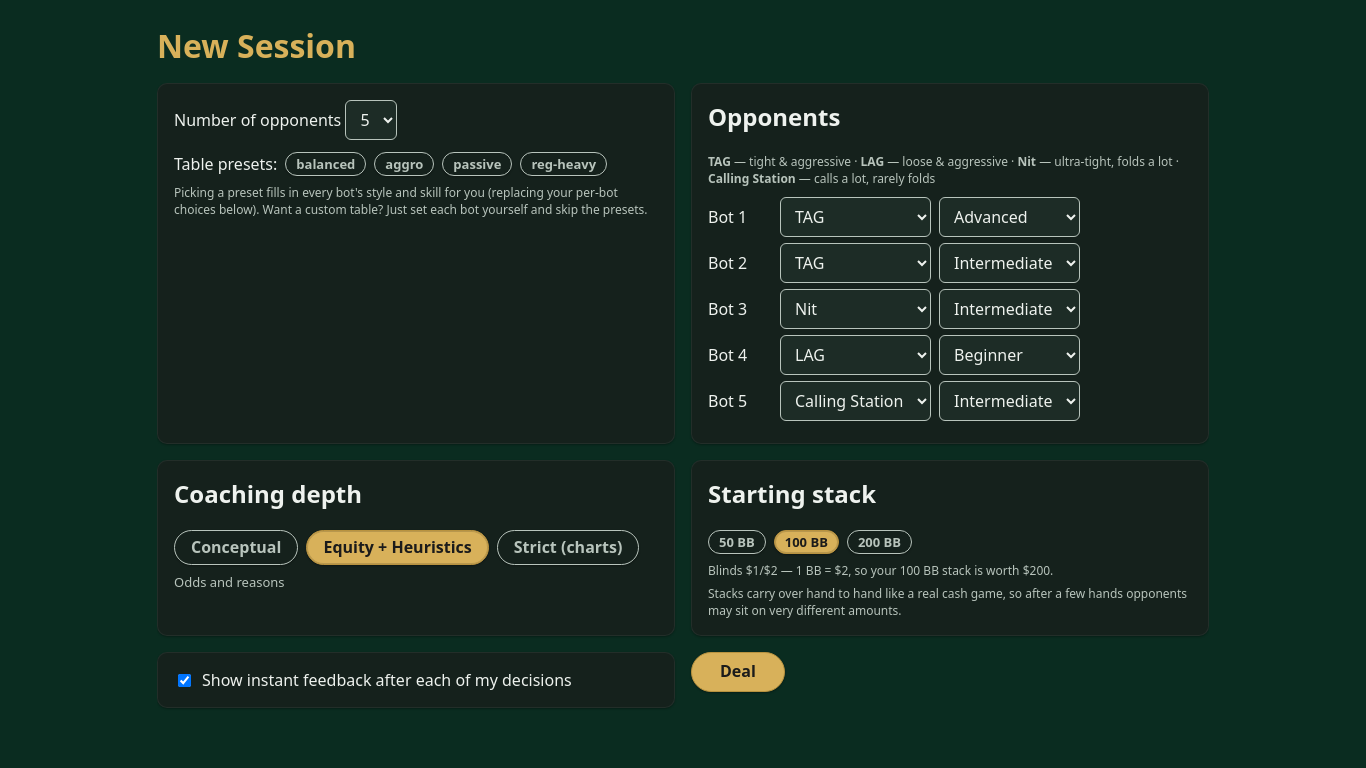
it: SetupScreen › states the blind size and what the chosen stack is worth (iter-03 #11)
Expected: the text with test id "blind-note" shows "Blinds $1/$2", [708,562,1053,579]
Expected: the text with test id "blind-note" shows "1 BB = $2", [708,562,1053,579]
Note: Updates with the chosen stack.
Click the button "200 BB" at (880, 542), box [847,530,912,554]
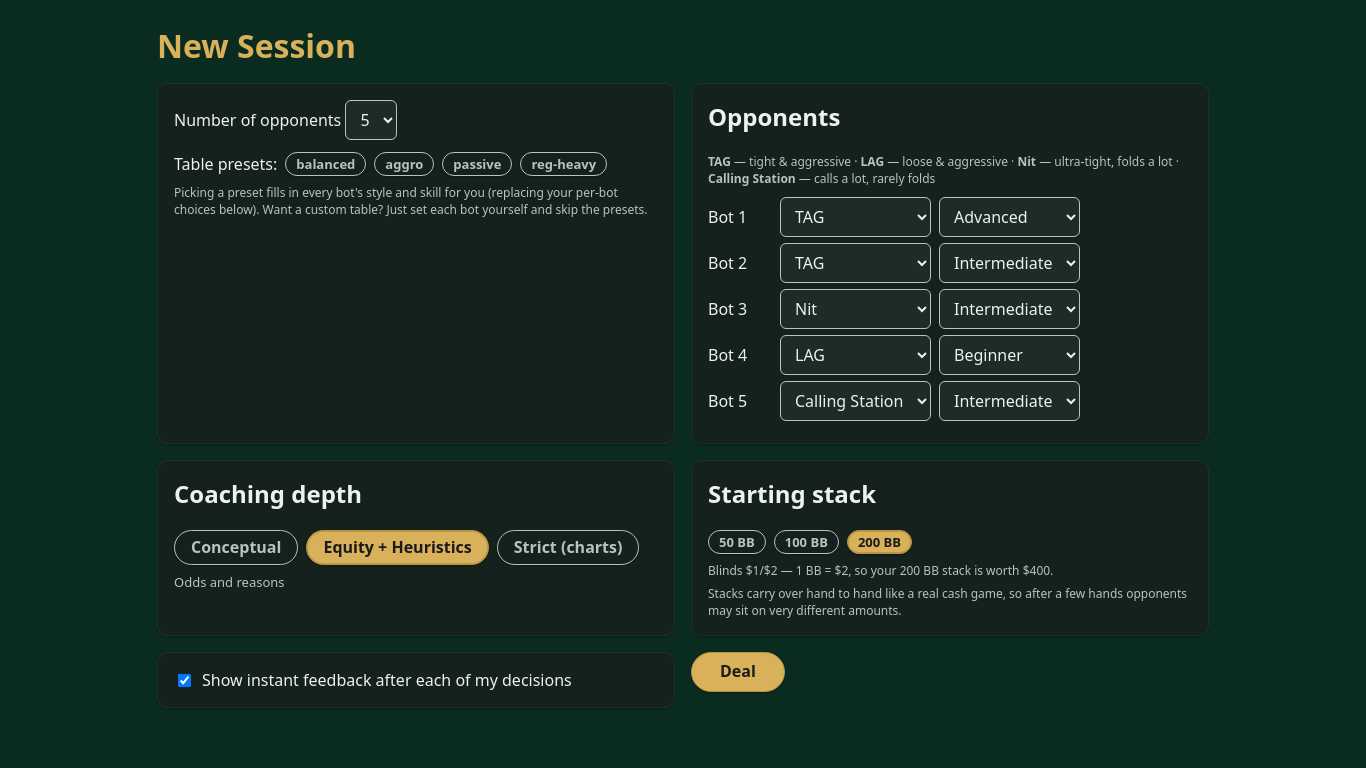
Expected: the text with test id "blind-note" shows "200 BB stack is worth $400", [708,562,1053,579]
